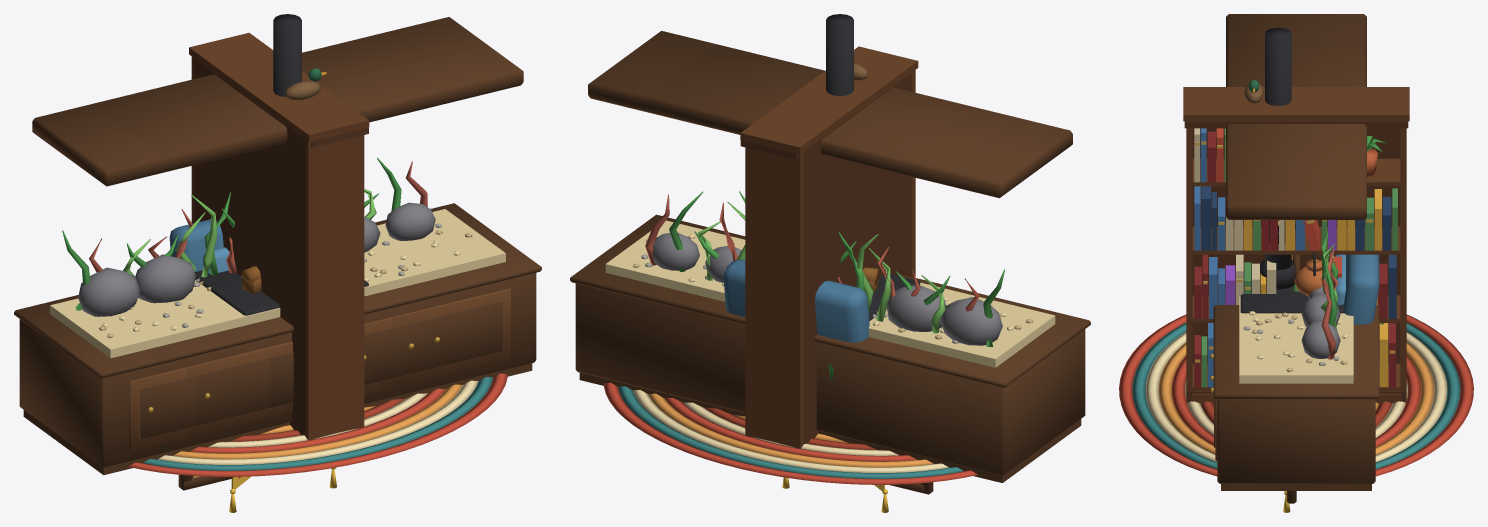
Rendered from decor.glb.
3 renders of one model, left to right at view 1: azimuth 30°, elevation 25°; view 2: azimuth 150°, elevation 25°; view 3: azimuth 270°, elevation 25°, orthographic. The views are drawn at different scales.
Parts seen in each view (by area): view 1: decor_tank2, decor_tank, decor_shelf, decor_rug, decor_stove, decor_armchair; view 2: decor_tank2, decor_tank, decor_shelf, decor_rug, decor_armchair, decor_stove; view 3: decor_tank2, decor_shelf, decor_rug, decor_tank, decor_stove, decor_armchair.
Boxes of the visible parts, x1=… form: decor_tank2: x1=14, y1=17, x2=541, y2=475; decor_tank: x1=72, y1=30, x2=485, y2=457; decor_shelf: x1=189, y1=32, x2=369, y2=440; decor_rug: x1=128, y1=373, x2=507, y2=476; decor_stove: x1=195, y1=14, x2=368, y2=315; decor_armchair: x1=169, y1=219, x2=229, y2=273; decor_tank2: x1=570, y1=31, x2=1090, y2=482; decor_tank: x1=626, y1=44, x2=1014, y2=466; decor_shelf: x1=740, y1=46, x2=918, y2=448; decor_rug: x1=603, y1=382, x2=977, y2=484; decor_armchair: x1=723, y1=259, x2=869, y2=342; decor_stove: x1=826, y1=14, x2=920, y2=321; decor_tank2: x1=1210, y1=14, x2=1379, y2=490; decor_shelf: x1=1183, y1=80, x2=1409, y2=403; decor_rug: x1=1119, y1=314, x2=1473, y2=476; decor_tank: x1=1210, y1=39, x2=1379, y2=392; decor_stove: x1=1240, y1=27, x2=1344, y2=313; decor_armchair: x1=1335, y1=254, x2=1379, y2=324.
Bounding box in the file's own units: 3.96 × 4.13 × 2.92.
